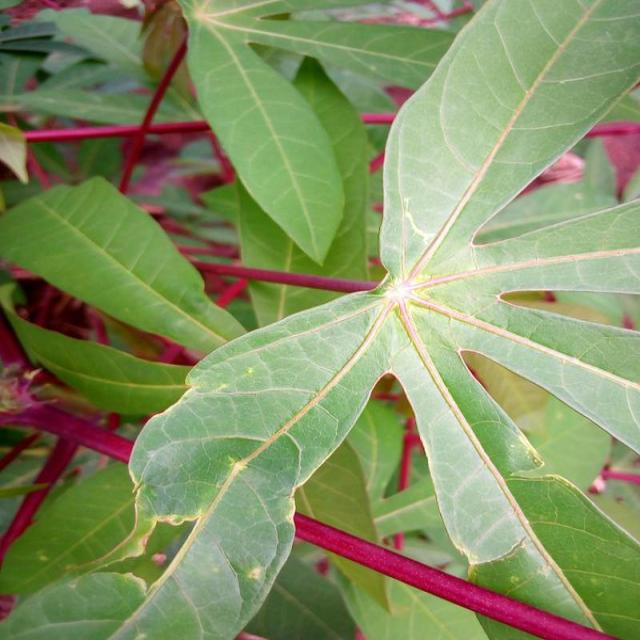cassava leaf: (109, 0, 638, 638)
